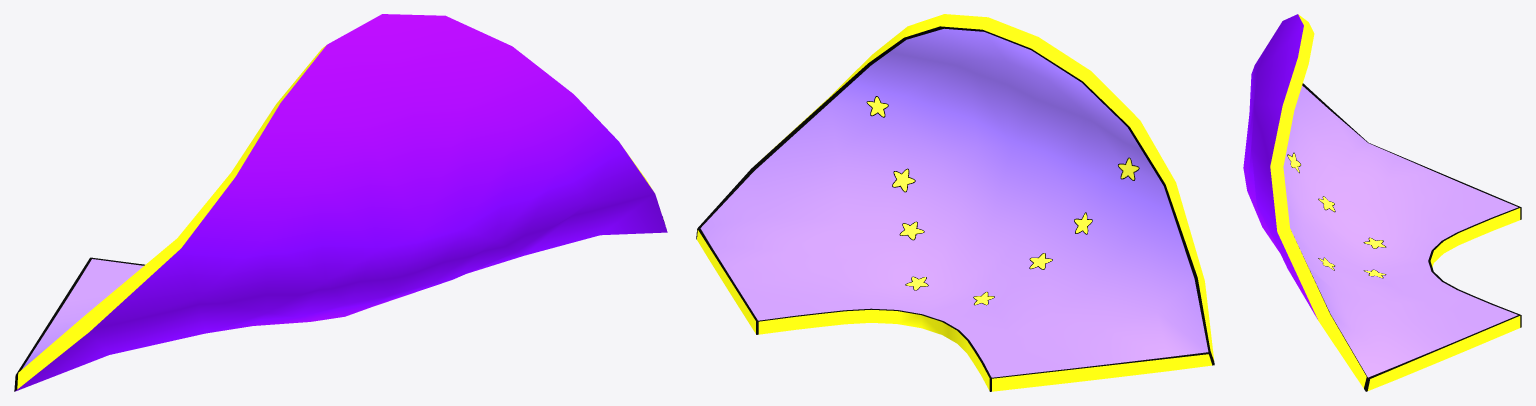
File: cocobay_concave_corner.gltf
3 views of the same model, side by side, from view 1: azimuth 30°, elevation 25°; view 2: azimuth 150°, elevation 25°; view 3: azimuth 270°, elevation 25° (orthographic). The views are drawn at different scales.
Visible parts, largest first — view 1: cocobay_concave_corner_glb; view 2: cocobay_concave_corner_glb; view 3: cocobay_concave_corner_glb.
Boxes of the visible parts, <box> form: cocobay_concave_corner_glb: <box>14,14,667,391</box>; cocobay_concave_corner_glb: <box>696,14,1214,391</box>; cocobay_concave_corner_glb: <box>1243,14,1521,391</box>.
Size of what is drawn, in the model's own units: 10.12 by 4.89 by 4.97.
Materials: 2 (2 with a texture image).
